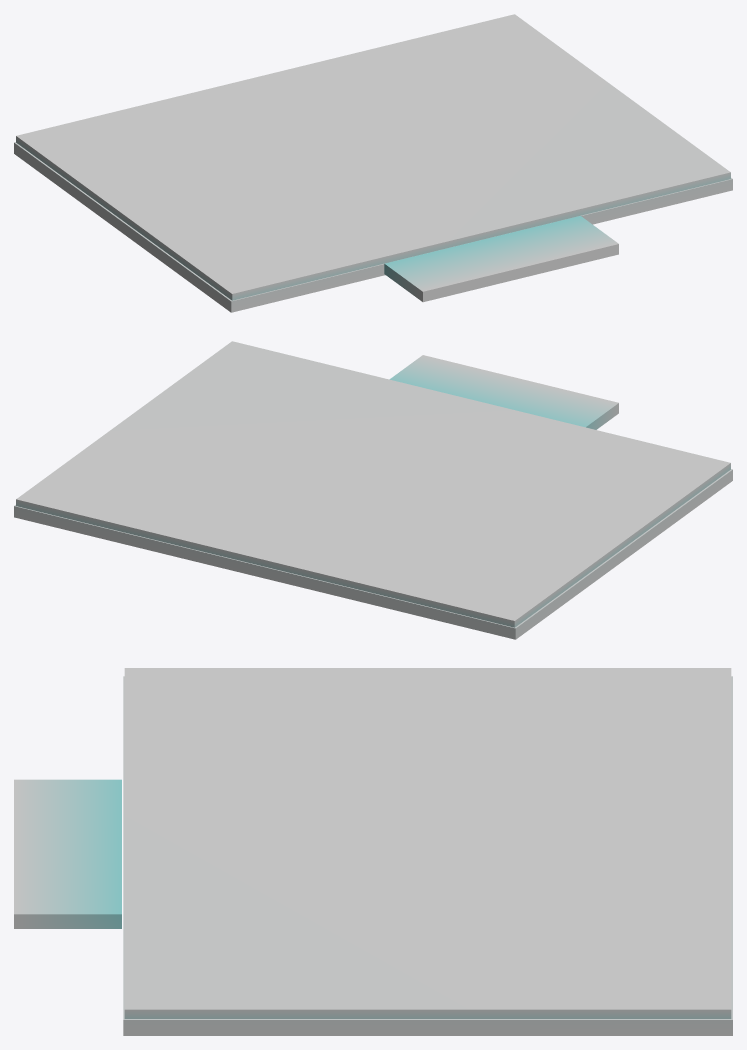
3 views of the same model, one above another, from view 1: azimuth 30°, elevation 25°; view 2: azimuth 150°, elevation 25°; view 3: azimuth 270°, elevation 25° (orthographic). The views are drawn at different scales.
Visible parts, largest first — view 1: turf_layer, projecting_tab, backing; view 2: turf_layer, backing, projecting_tab; view 3: turf_layer, projecting_tab, backing.
Part boxes in pixels (x1,y1,x2,y2): turf_layer: [16, 14, 730, 300]; projecting_tab: [384, 216, 618, 302]; backing: [14, 142, 732, 312]; turf_layer: [16, 341, 730, 627]; backing: [14, 469, 732, 639]; projecting_tab: [389, 355, 618, 429]; turf_layer: [124, 668, 731, 1018]; projecting_tab: [14, 779, 121, 928]; backing: [123, 676, 732, 1035].
Bounding box in the file's own units: 1 × 0.0342 × 0.8843.
